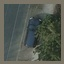car: (24, 18, 40, 49)
